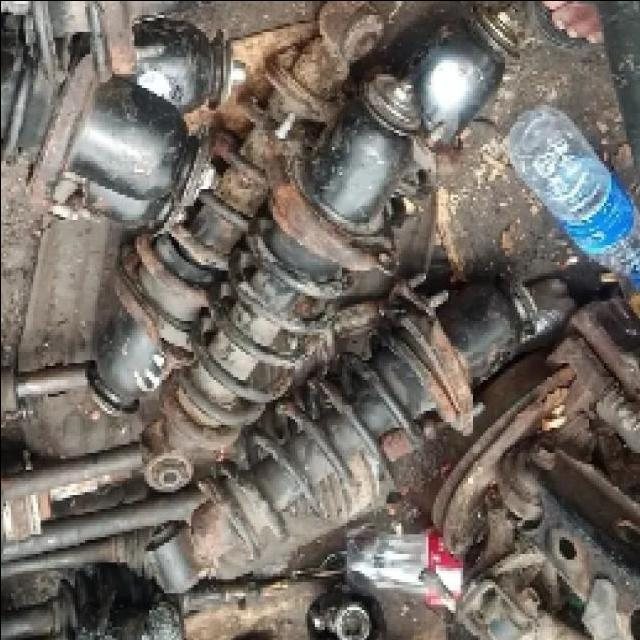shock absorber: (144, 279, 575, 593), (86, 3, 384, 416), (139, 70, 420, 491)
